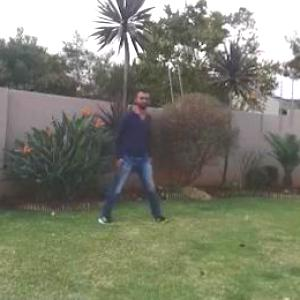follow: (116, 81, 152, 210)
